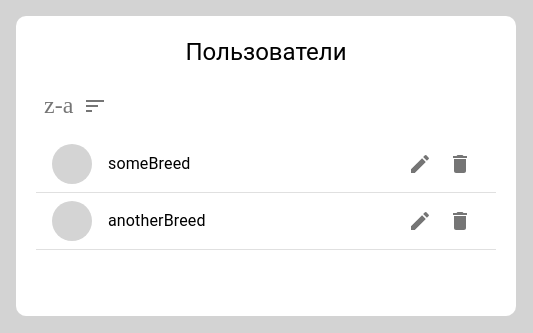
Test: Test Component › Редактирование элемента в списке
Click the button with test id "button_edit" in the row of "someBreed" at (420, 164), box [400,144,440,184]
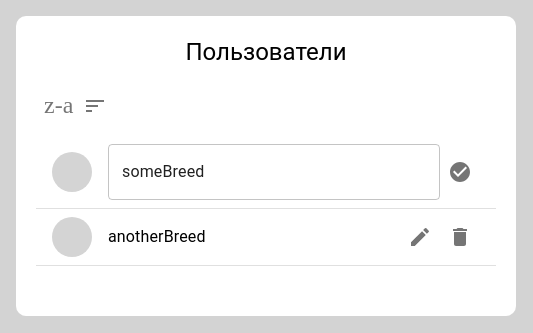
Leave the field, box [108,144,440,200]
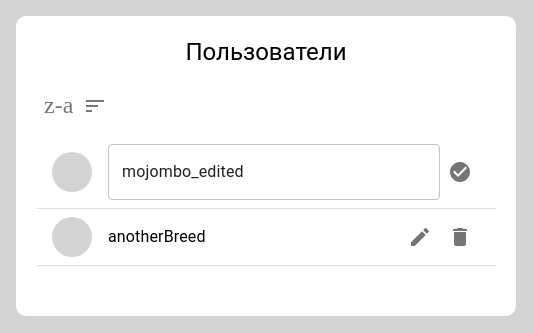
Click the button with test id "button_save" at (460, 172), box [440,152,480,192]
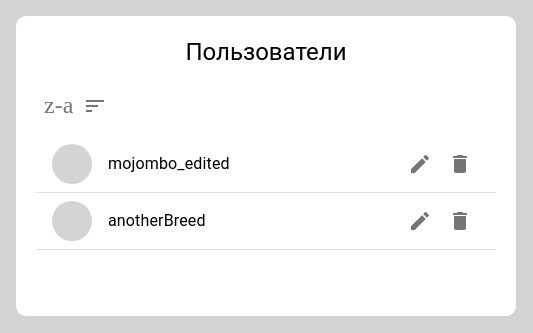
Expected: the text "mojombo_edited" is shown, [108,154,230,173]
